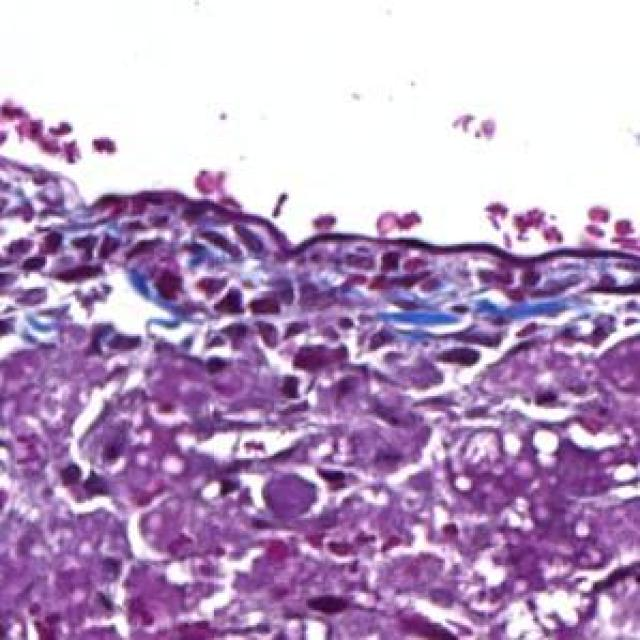inflammation: (204, 430, 356, 537), (2, 210, 133, 291)
